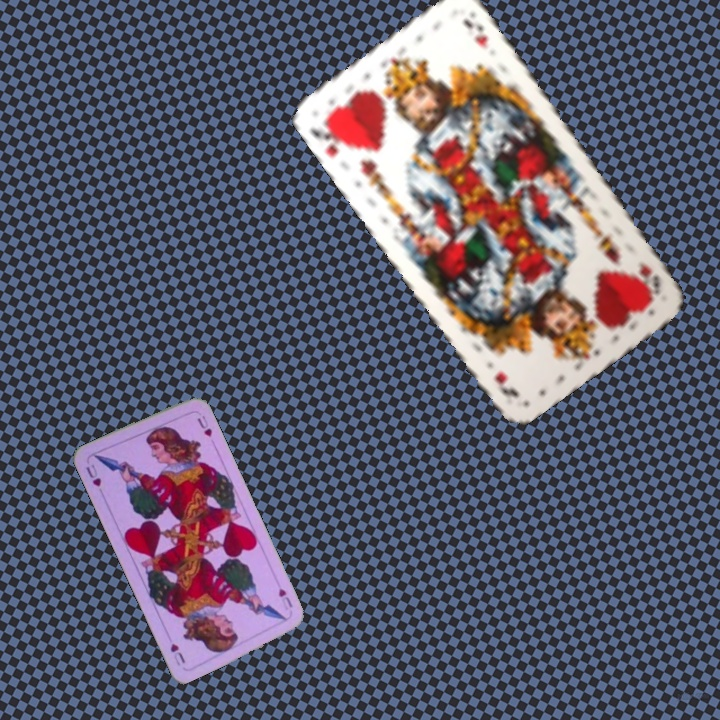HK: (305, 115, 352, 160), (634, 258, 663, 298)
HU: (82, 460, 104, 489), (274, 584, 295, 613)
